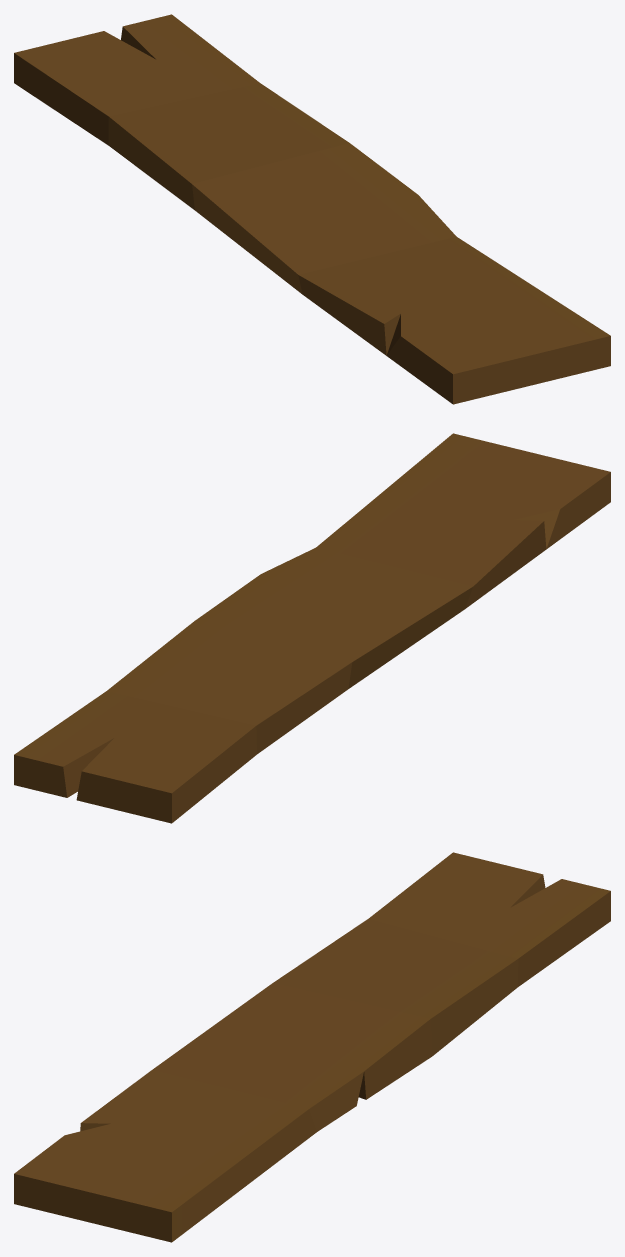
The model's file is Planche1.fbx.
The picture shows the model from 3 angles, top to bottom: view 1: azimuth 30°, elevation 25°; view 2: azimuth 150°, elevation 25°; view 3: azimuth 330°, elevation 25°; orthographic projection.
Parts seen in each view (by area): view 1: Planche1; view 2: Planche1; view 3: Planche1.
Boxes of the visible parts, box(x1,y1,x2,y2) form: Planche1: box(14, 14, 610, 404); Planche1: box(14, 433, 610, 823); Planche1: box(14, 852, 610, 1242).
Size of the model in its own units: 44.29 by 8.97 by 200.
